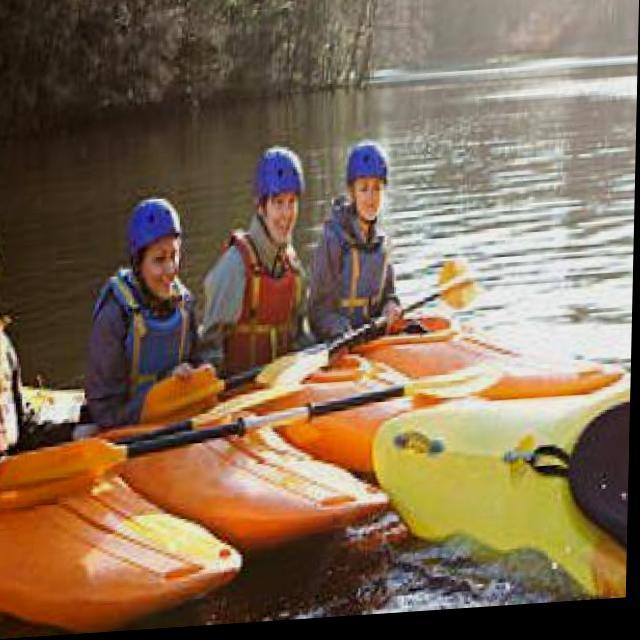kayak: (376, 381, 633, 609), (118, 385, 393, 567), (0, 464, 244, 636)
